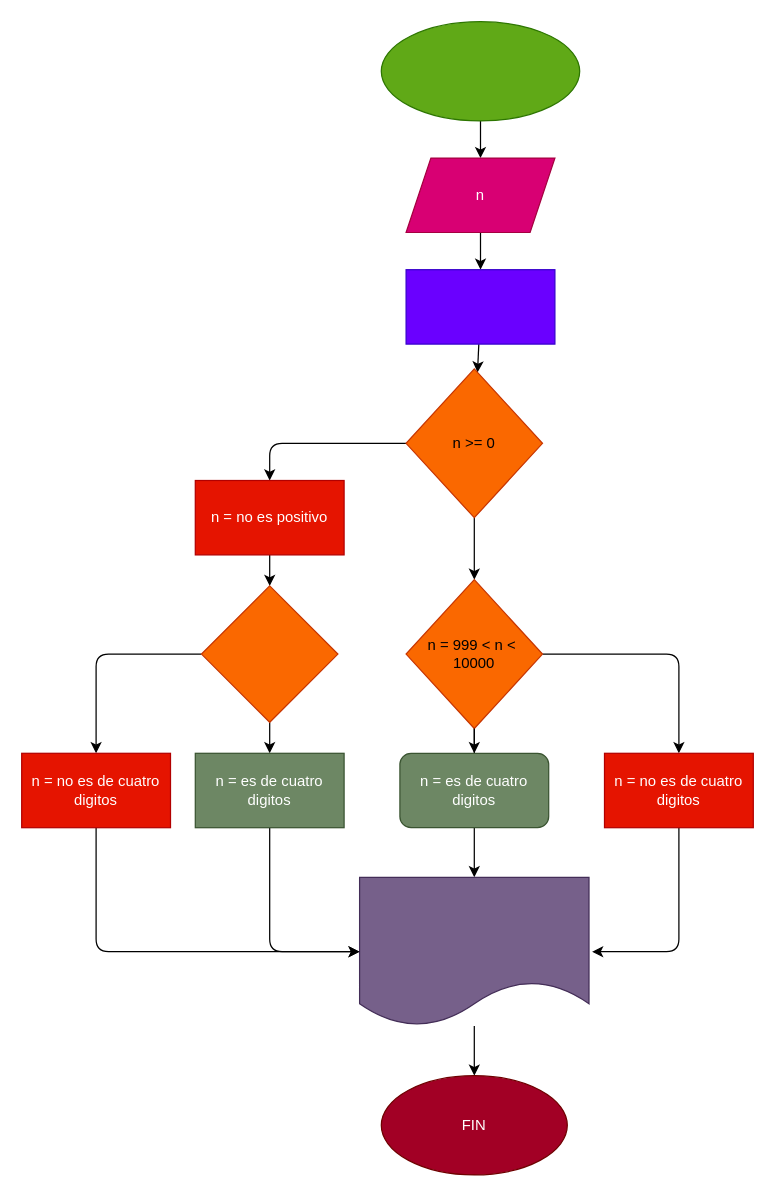
Some shapes in this 775 by 1197 pixel diagram are drawn without their labels. Each missing label, with the centre of its shape:
-Es de cuatro digitos -No es de cuatro digitos -Es positivo -No es positivo: point 473,951
Inicio: point 480,70
n = -10000 < n < 999: point 269,653
n2 = 999 < n < 10000 n3 = -10000 < n < 999 n1 = n >= 0: point 480,306
